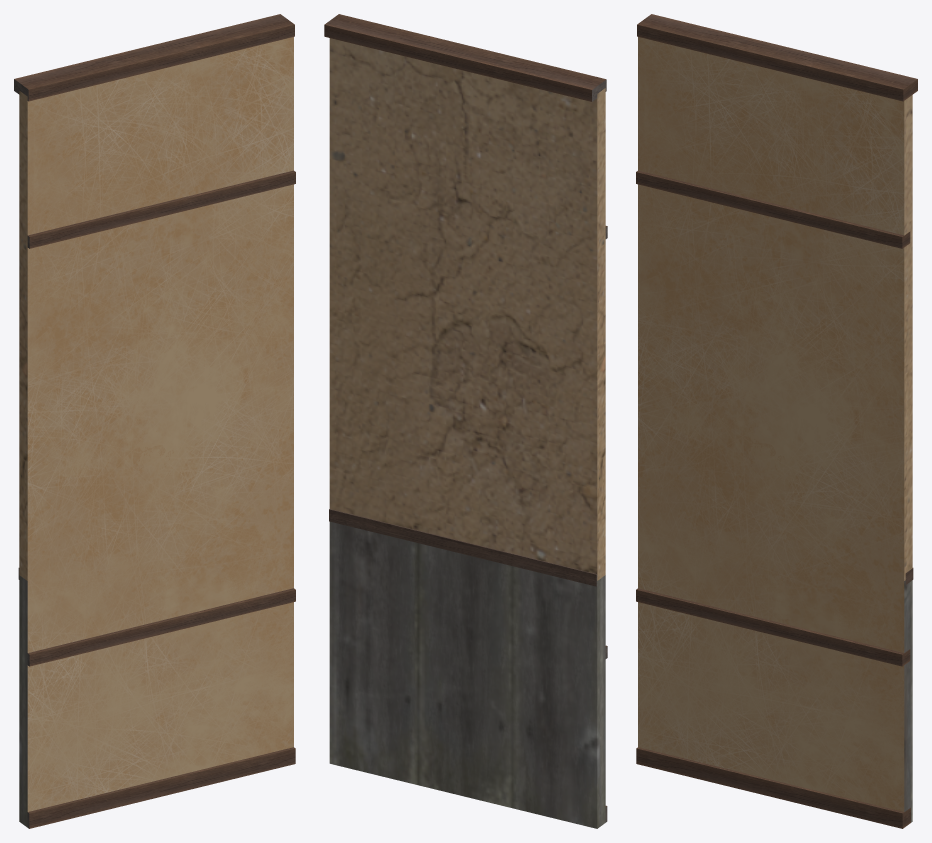
Rendered from outwall02_0t.fbx.
3 renders of one model, left to right at view 1: azimuth 30°, elevation 25°; view 2: azimuth 150°, elevation 25°; view 3: azimuth 330°, elevation 25°, orthographic.
Parts seen in each view (by area): view 1: outwall02_0t; view 2: outwall02_0t; view 3: outwall02_0t.
Boxes of the visible parts, bbox=[...] form: outwall02_0t: bbox=[14, 14, 295, 828]; outwall02_0t: bbox=[324, 14, 607, 828]; outwall02_0t: bbox=[636, 14, 917, 828].
Size of the model in its own units: 110 by 292 by 11.05.
